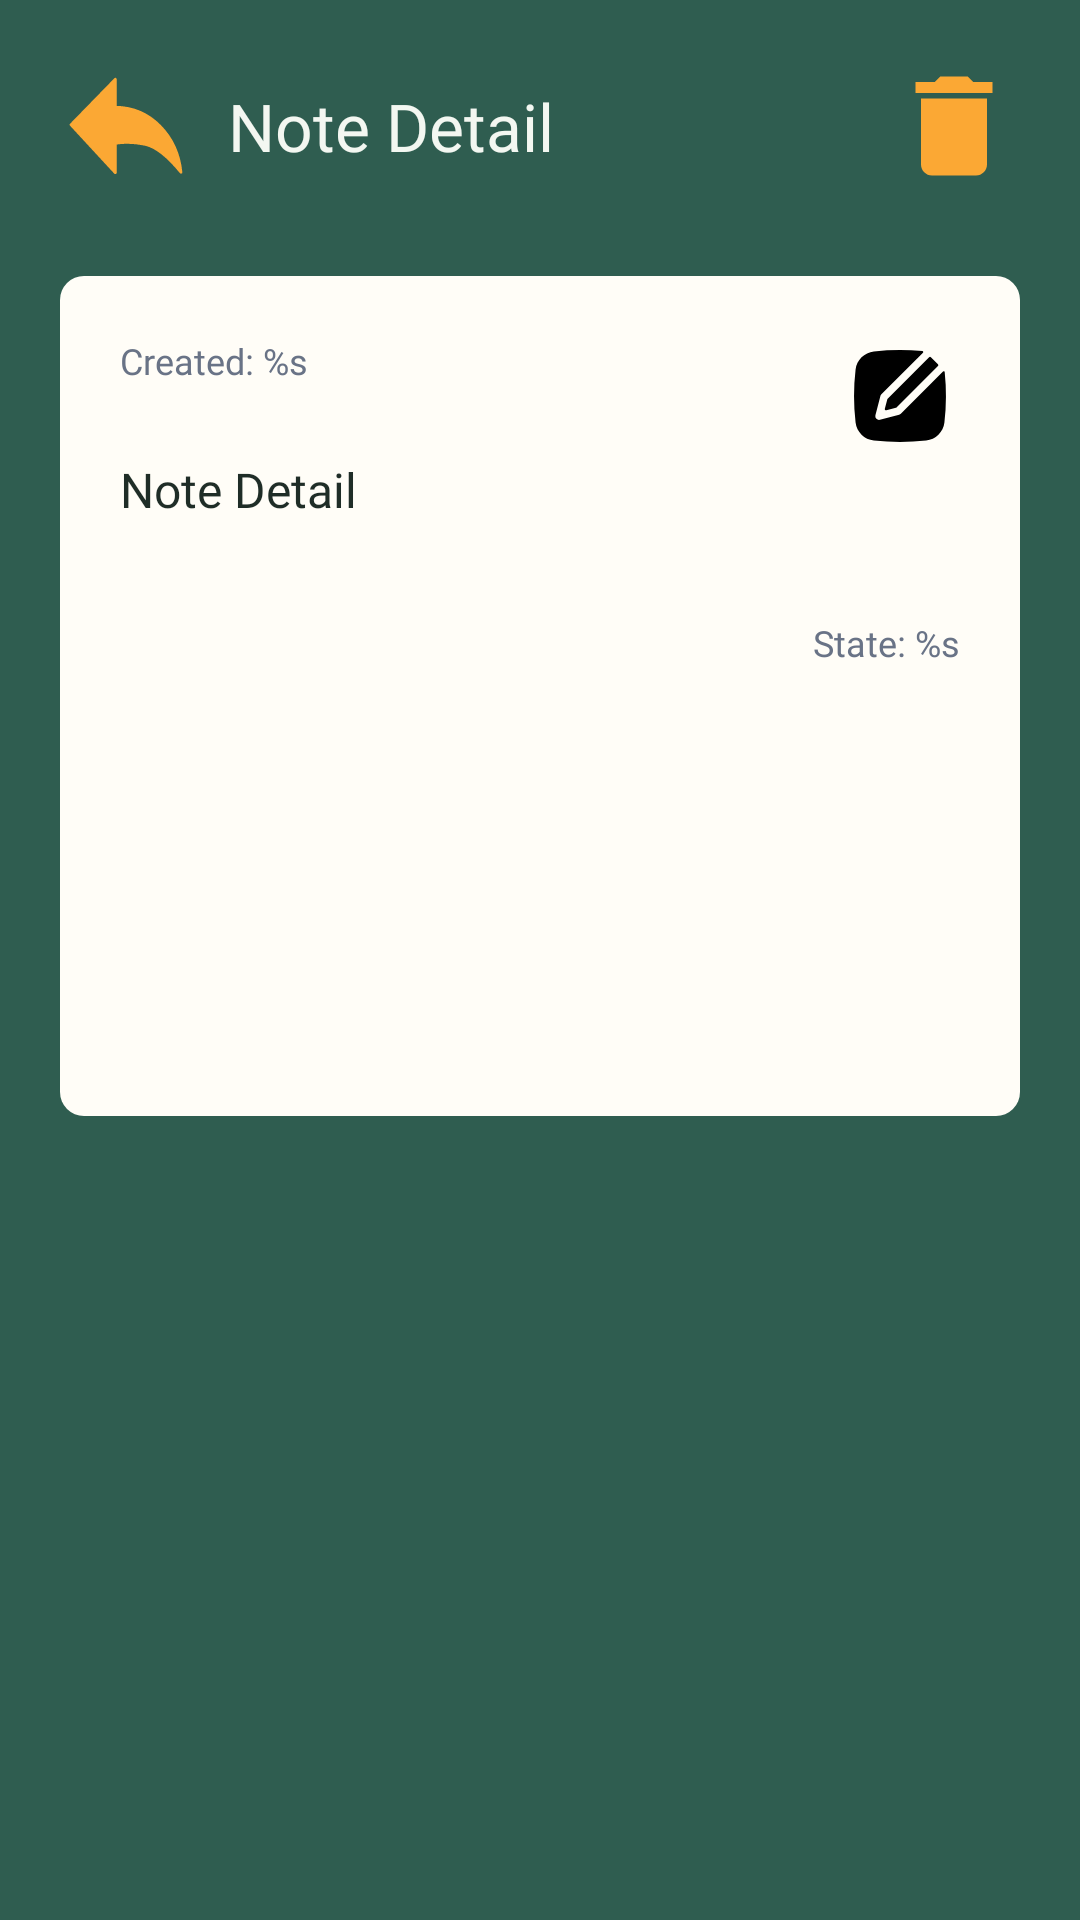

Point at icon controls on the screen. Image size 1080w x 1920h, points as point (x, y).
Delete note: point (954, 126)
Edit note: point (900, 396)
